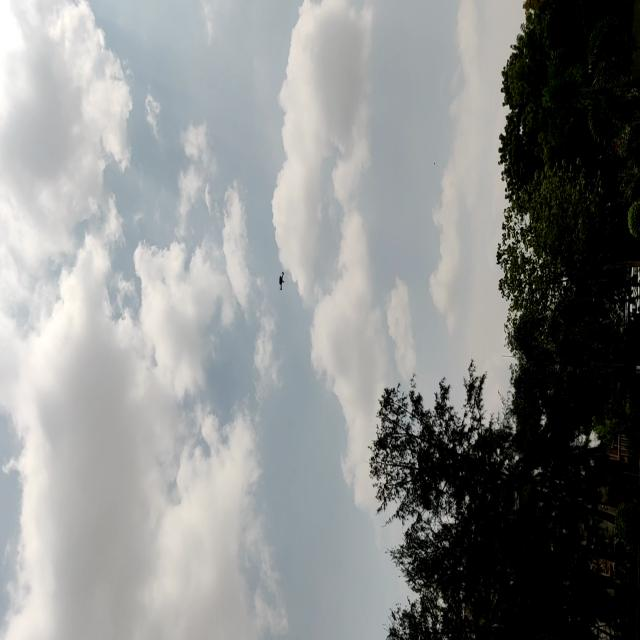drone: (274, 270, 290, 296)
